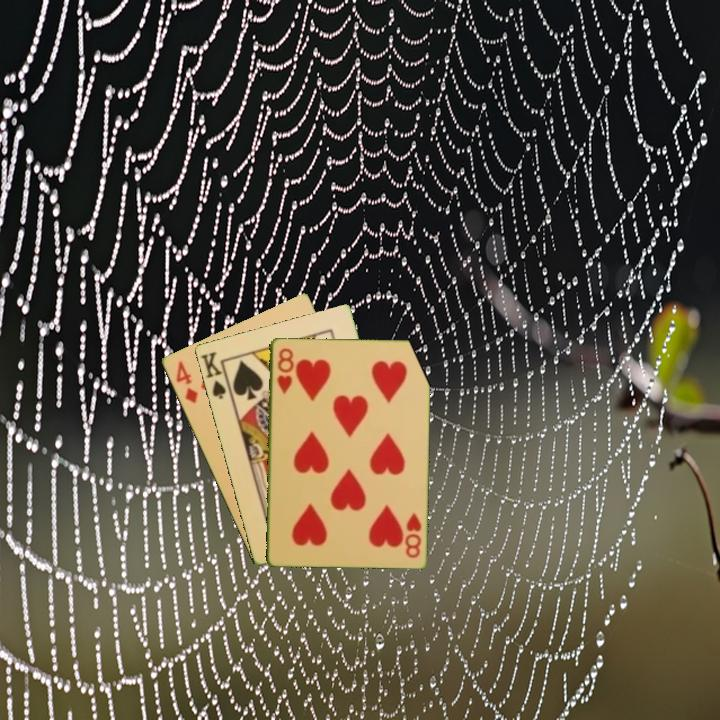4d: (172, 357, 200, 406)
8h: (273, 344, 295, 396), (402, 509, 424, 561)
Ks: (197, 348, 234, 402)
